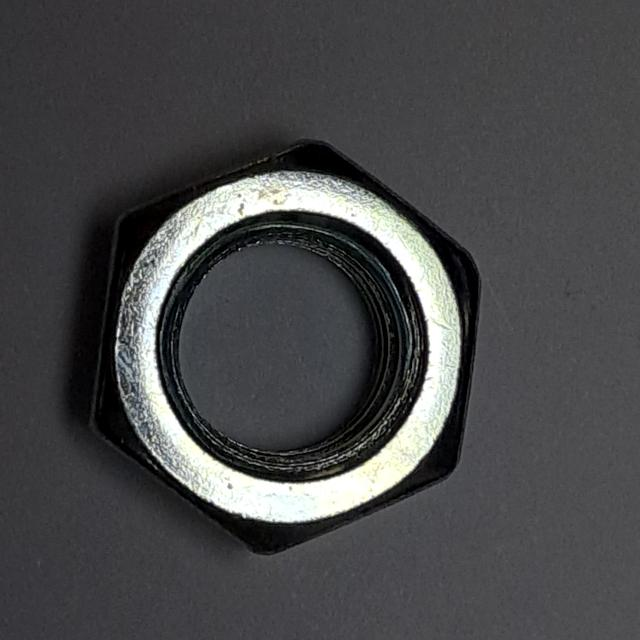Excellent: (76, 120, 491, 580)
